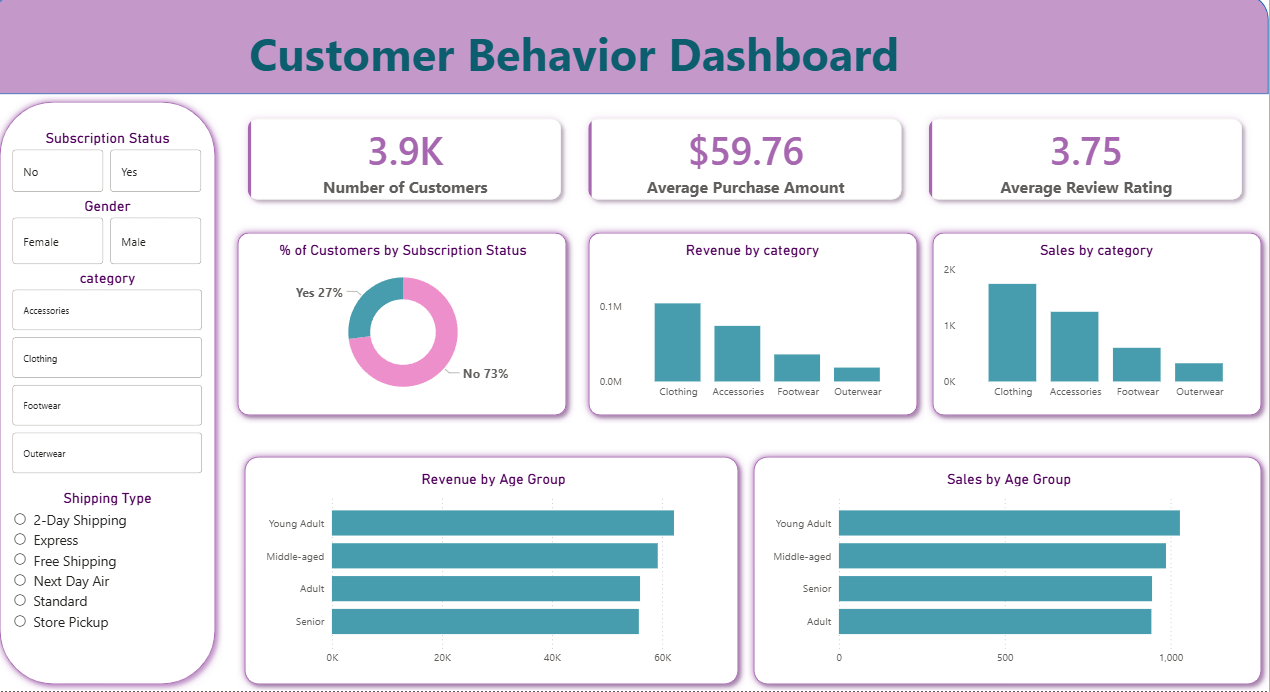

What the dashboard file says about the page in this screenshot:
{"tool":"powerbi","page":{"name":"Page 1","canvas":[1500,820],"ordinal":0},"visuals":[{"type":"cardVisual","fields":{"Data":["Calculations.Number of Customers","Calculations.Average Purchase Amount","Calculations.Average Review Rating"]},"box":[271.3,117.5,1228.7,153.9],"z":0},{"type":"shape","box":[0,0,1499.5,117.7],"z":1000},{"type":"textbox","box":[211.7,26.9,945,90.9],"z":2000},{"type":"shape","box":[691.9,271.3,404.1,232.6],"z":3000},{"type":"shape","box":[279.6,271.3,404.1,232.6],"z":4000},{"type":"shape","box":[1095.9,271.3,404.1,232.6],"z":5000},{"type":"shape","box":[287.8,534.5,597.9,285.4],"z":5500},{"type":"shape","box":[0,117.5,271.3,702.4],"z":6000},{"type":"donutChart","title":"% of Customers by Subscription Status","fields":{"Category":["table_name.subscription_status"],"Y":["CountNonNull(table_name.customer_id)"]},"box":[301.9,290.1,361.8,195],"z":7000},{"type":"clusteredColumnChart","title":"Sales by category","fields":{"Category":["table_name.category"],"Y":["CountNonNull(table_name.customer_id)"]},"box":[1112.4,290.1,370,195],"z":8000},{"type":"clusteredColumnChart","title":"Revenue by category","fields":{"Category":["table_name.category"],"Y":["Sum(table_name.purchase_amount)"]},"box":[708.3,290.1,370,195],"z":9000},{"type":"advancedSlicerVisual","fields":{"Values":["table_name.subscription_status"]},"box":[18.8,158.6,233.8,79.9],"z":10000},{"type":"advancedSlicerVisual","fields":{"Values":["table_name.gender"]},"box":[18.8,238.4,233.8,84.6],"z":11000},{"type":"advancedSlicerVisual","fields":{"Values":["table_name.category"]},"box":[18.8,323,233.8,246.7],"z":12000},{"type":"listSlicer","title":"Shipping Type","fields":{"Values":["table_name.shipping_type"]},"box":[18.8,581.4,233.8,176.2],"z":13000},{"type":"clusteredBarChart","title":"Revenue by Age Group","fields":{"Category":["table_name.age_group"],"Y":["Sum(table_name.purchase_amount)"]},"box":[311.3,559.1,555.6,238.4],"z":14000},{"type":"shape","box":[885.7,534.5,614.3,285.4],"z":14001},{"type":"clusteredBarChart","title":"Sales by Age Group","fields":{"Category":["table_name.age_group"],"Y":["CountNonNull(table_name.customer_id)"]},"box":[906.8,559.1,575.6,238.4],"z":14002}]}

Visuals, with their boxes in screenshot pixels (x1, y1, x2, y2), scaled from the page's 1500x820 canvas onto the 1270x692 screenshot:
cardVisual - Calculations.Number of Customers x Calculations.Average Purchase Amount: (230, 99, 1269, 229)
shape: (0, 0, 1269, 99)
textbox: (179, 23, 979, 99)
shape: (586, 229, 928, 425)
shape: (237, 229, 579, 425)
shape: (928, 229, 1269, 425)
shape: (244, 451, 750, 691)
shape: (0, 99, 230, 691)
"% of Customers by Subscription Status" donutChart: (256, 245, 562, 409)
"Sales by category" clusteredColumnChart: (942, 245, 1255, 409)
"Revenue by category" clusteredColumnChart: (600, 245, 913, 409)
advancedSlicerVisual - table_name.subscription_status: (16, 134, 214, 201)
advancedSlicerVisual - table_name.gender: (16, 201, 214, 273)
advancedSlicerVisual - table_name.category: (16, 273, 214, 481)
"Shipping Type" listSlicer: (16, 491, 214, 639)
"Revenue by Age Group" clusteredBarChart: (264, 472, 734, 673)
shape: (750, 451, 1269, 691)
"Sales by Age Group" clusteredBarChart: (768, 472, 1255, 673)
